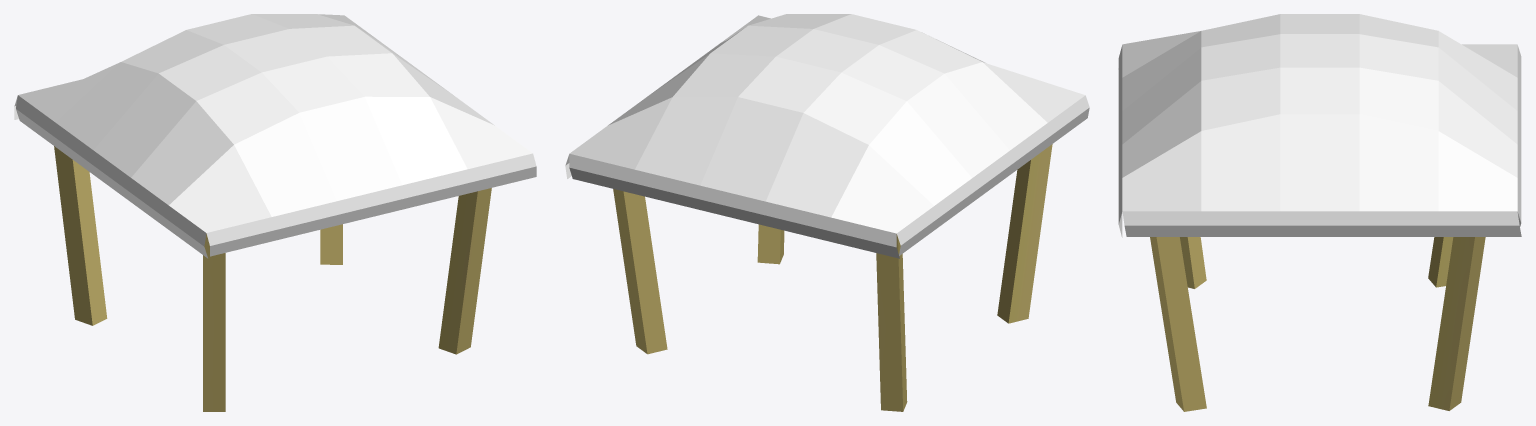
The model's file is cadır.fbx.
3 views of the same model, side by side, from view 1: azimuth 30°, elevation 25°; view 2: azimuth 150°, elevation 25°; view 3: azimuth 270°, elevation 25° (orthographic). The views are drawn at different scales.
Visible parts, largest first — view 1: Cube; view 2: Cube; view 3: Cube.
Boxes of the visible parts, x1,y1,x2,y2 form: Cube: (14,14,536,411); Cube: (565,14,1089,411); Cube: (1118,14,1521,411).
Bounding box in the file's own units: 817 × 657 × 817.
